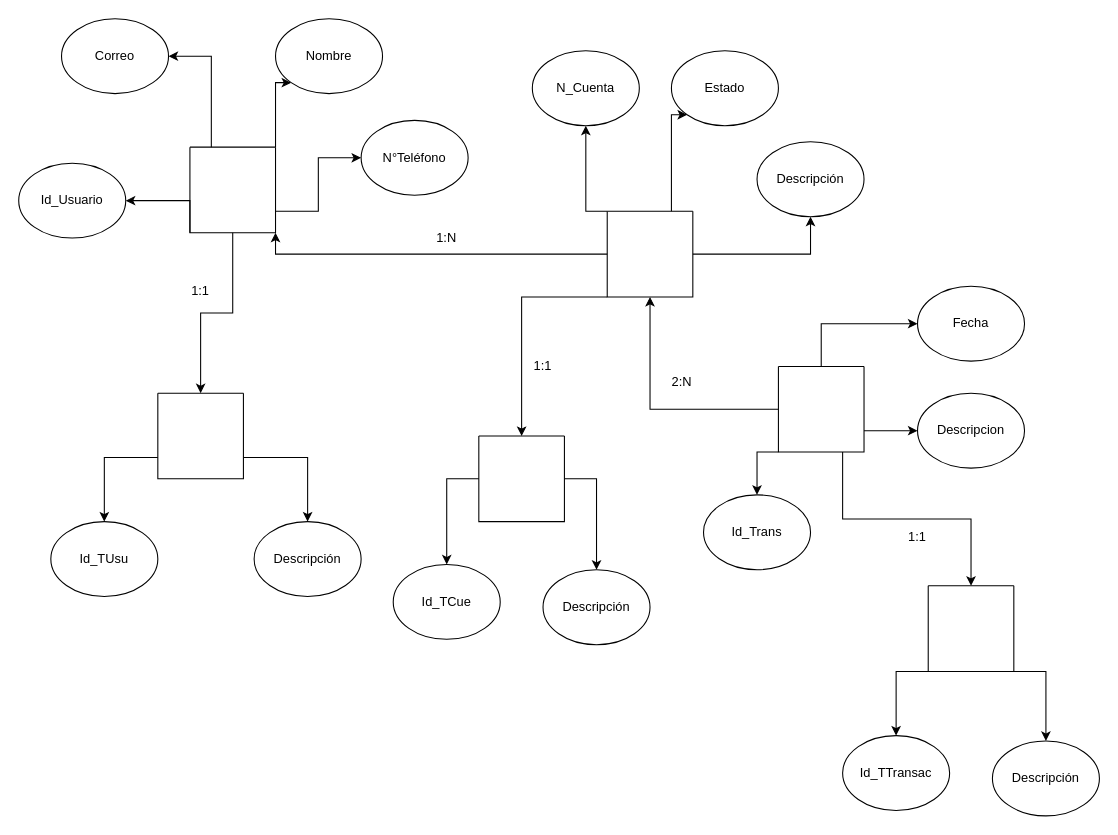
Image size: 1118x835. Some labels were removed from this diagram. Here are the shapes that lost their labels. From the top down, the centre of each, then its label:
point 232,189: Usuario
point 649,253: Cuenta
point 820,408: Transacciones
point 200,435: Tipo Usuario
point 521,478: Tipo Cuenta
point 970,628: Tipo Transacción
